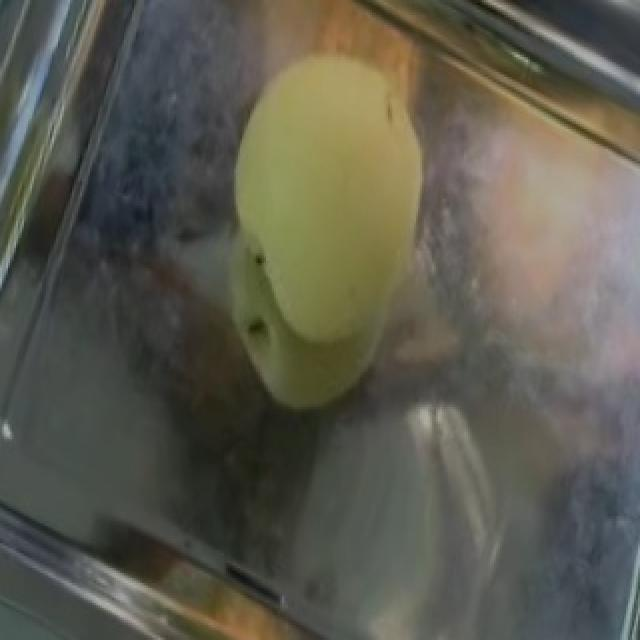Fruit: (184, 3, 504, 362)
